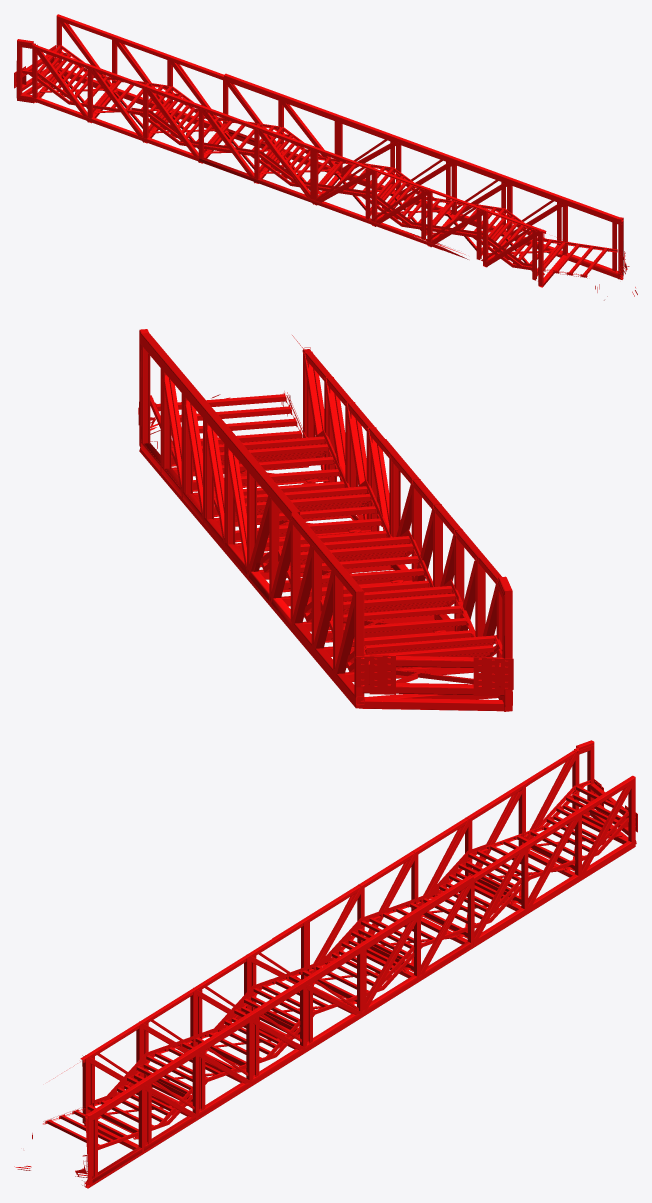
Rendered from trap2penta.fbx.
The picture shows the model from 3 angles, top to bottom: view 1: azimuth 30°, elevation 25°; view 2: azimuth 150°, elevation 25°; view 3: azimuth 270°, elevation 25°; orthographic projection. The views are drawn at different scales.
Visible parts, largest first — view 1: polySurface1; view 2: polySurface1; view 3: polySurface1.
Part boxes in pixels (<box>): polySurface1: <box>14,14,637,300</box>; polySurface1: <box>138,329,513,711</box>; polySurface1: <box>14,740,637,1188</box>.
Size of the model in its own units: 4115 by 1780 by 4640.
